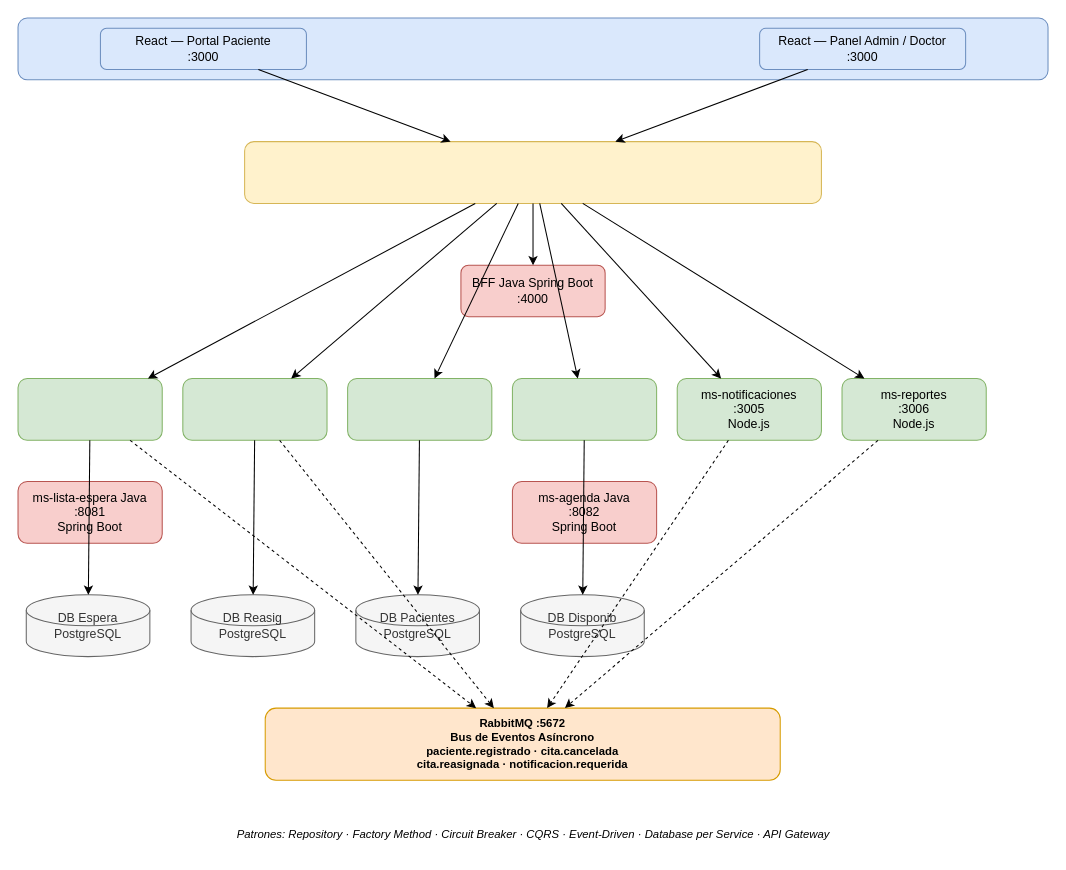
Some shapes in this 1066 by 870 pixel diagram are drawn without their labels. The box of each missing label's shape, as (x1, y1, x2, y2) in pixels:
API GATEWAY — Nginx :80 JWT Auth · Rate Limit · Load Balancer: (244, 141, 821, 203)
CAPA DE CLIENTES: (17, 17, 1048, 80)
ms-agenda-medica :3004 Node.js: (511, 377, 657, 440)
ms-lista-espera :3001 Node.js: (17, 377, 162, 440)
ms-pacientes :3003 Node.js: (347, 377, 492, 440)
ms-reasignacion :3002 Node.js: (182, 377, 327, 440)
